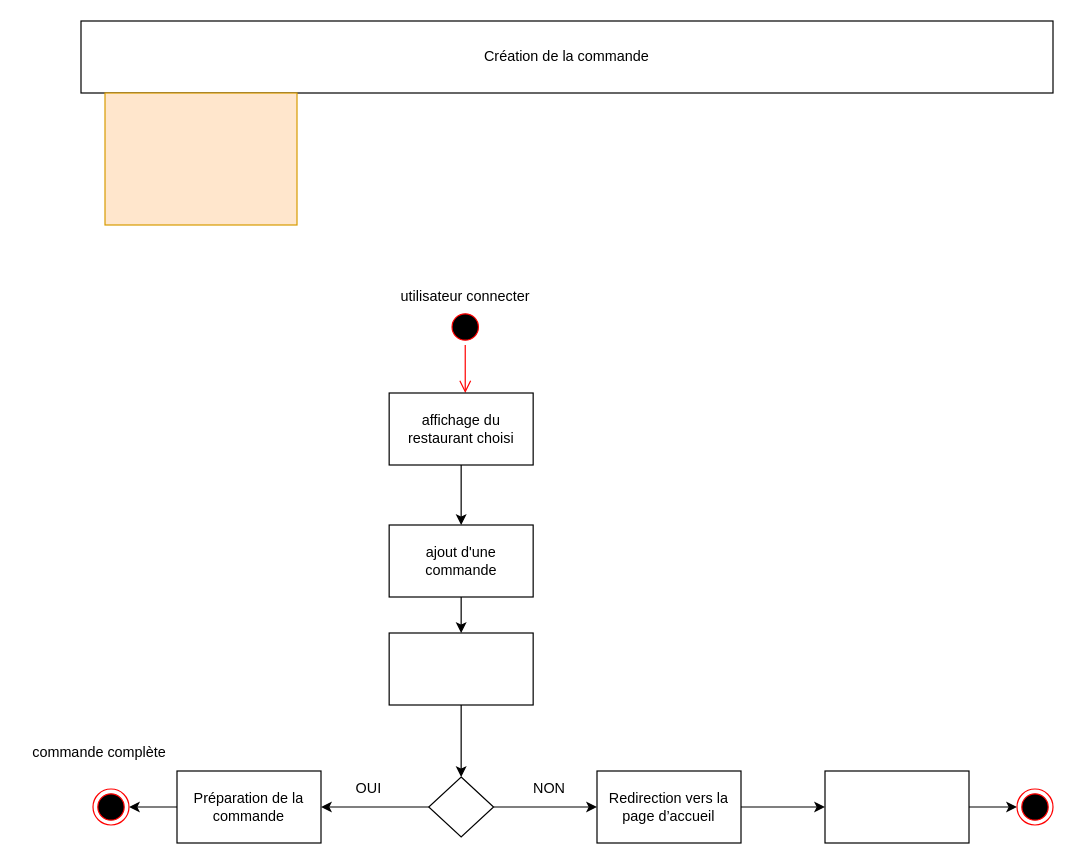
This 1074x864 diagram has some shape labels left out. The shapes that lost their labels are listed below. From the top down, each one's centre as x and y in pixels, then its label:
(x=200, y=158): Au préalable l'utilisateur doit : avoir crée un compte && valider une commende
(x=460, y=668): Ingrédient disponible
(x=896, y=806): Proposition d'un choix Similaire
